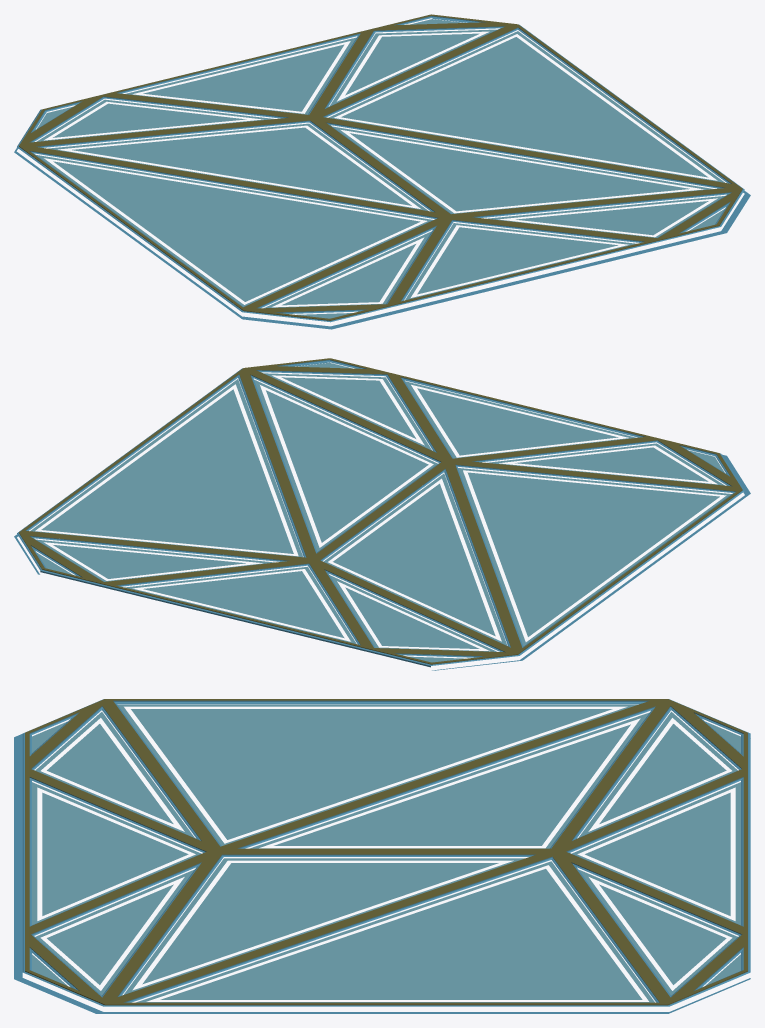
The model's file is Planes.fbx.
3 views of the same model, one above another, from view 1: azimuth 30°, elevation 25°; view 2: azimuth 150°, elevation 25°; view 3: azimuth 270°, elevation 25° (orthographic). The views are drawn at different scales.
Parts seen in each view (by area): view 1: Plane_building_color_03_0, Plane_building_metal02_0, Plane_building_color_02_0; view 2: Plane_building_color_03_0, Plane_building_metal02_0, Plane_building_color_02_0; view 3: Plane_building_color_03_0, Plane_building_metal02_0, Plane_building_color_02_0.
Part boxes in pixels (x1,y1,x2,y2): Plane_building_color_03_0: [36, 19, 724, 318]; Plane_building_metal02_0: [19, 14, 742, 320]; Plane_building_color_02_0: [14, 16, 750, 329]; Plane_building_color_03_0: [30, 362, 731, 662]; Plane_building_metal02_0: [19, 358, 742, 664]; Plane_building_color_02_0: [14, 359, 750, 670]; Plane_building_color_03_0: [32, 704, 740, 1002]; Plane_building_metal02_0: [25, 699, 747, 1005]; Plane_building_color_02_0: [14, 699, 750, 1013].
Bounding box in the file's own units: 558 × 5.44 × 558.
